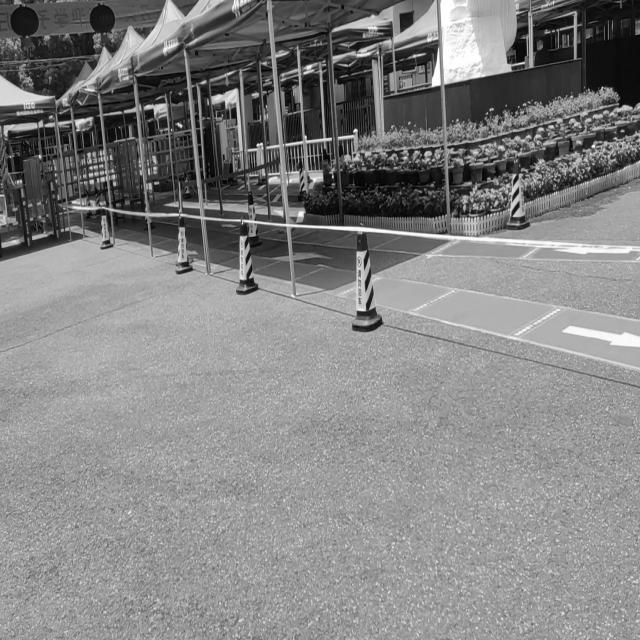reflective_cone: (350, 220, 383, 332), (235, 216, 259, 295), (174, 210, 193, 274), (246, 190, 262, 246), (98, 205, 113, 250), (297, 158, 307, 202)
